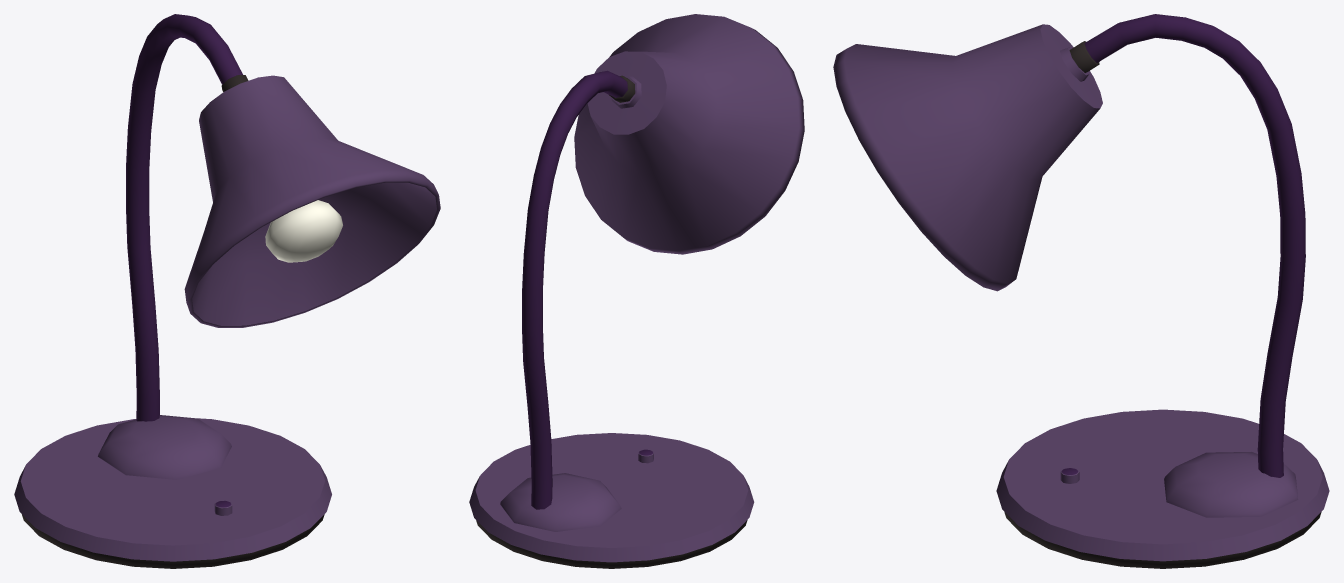
Rendered from deskLamp.fbx.
3 views of the same model, side by side, from view 1: azimuth 30°, elevation 25°; view 2: azimuth 150°, elevation 25°; view 3: azimuth 270°, elevation 25° (orthographic). The views are drawn at different scales.
Visible parts, largest first — view 1: SM_Old_USSR_Lamp_01; view 2: SM_Old_USSR_Lamp_01; view 3: SM_Old_USSR_Lamp_01.
Boxes of the visible parts, x1,y1,x2,y2 form: SM_Old_USSR_Lamp_01: (14,14,440,568); SM_Old_USSR_Lamp_01: (469,14,804,568); SM_Old_USSR_Lamp_01: (833,14,1329,568).
Size of the model in its own units: 2644 by 4253 by 3829.
Materials: 1 (1 with a texture image).
